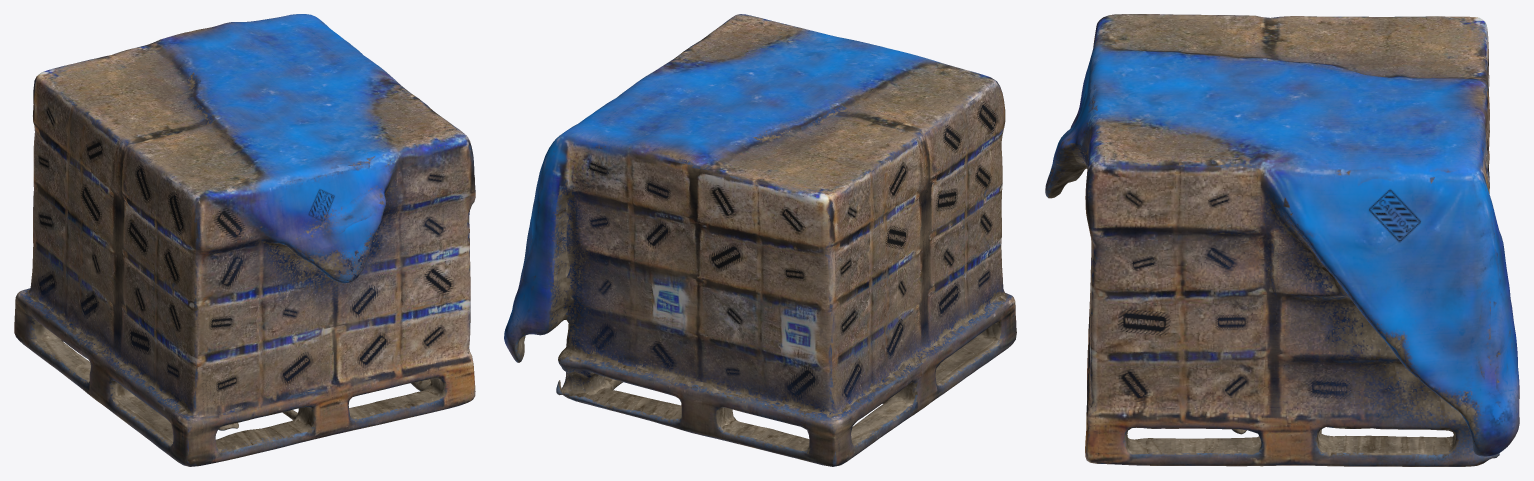
Rendered from cardboard_boxes_with_plastic_inside.glb.
The picture shows the model from 3 angles, left to right: view 1: azimuth 30°, elevation 25°; view 2: azimuth 150°, elevation 25°; view 3: azimuth 270°, elevation 25°; orthographic projection. The views are drawn at different scales.
Visible parts, largest first — view 1: model; view 2: model; view 3: model.
Boxes of the visible parts, <box> form: model: <box>14,14,475,466</box>; model: <box>504,14,1016,466</box>; model: <box>1045,14,1519,466</box>.
Bounding box in the file's own units: 1.26 × 0.9682 × 1.33.
1 material, 1 textured.
